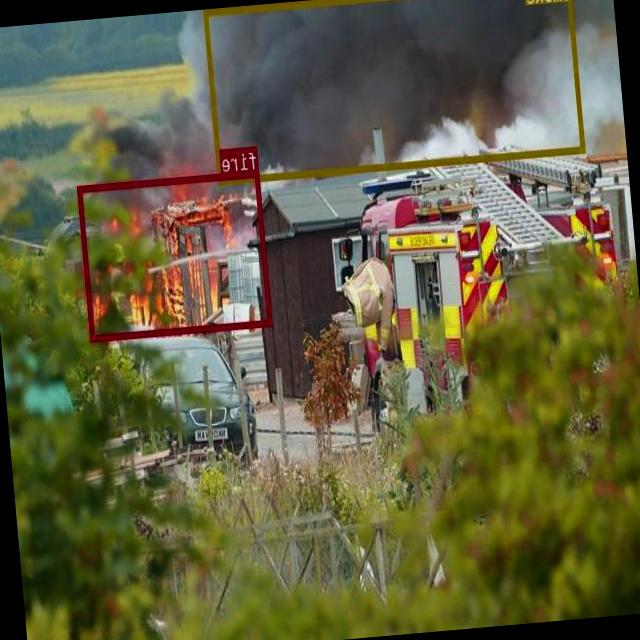fire: (78, 169, 272, 340)
smoke: (204, 0, 585, 183)
